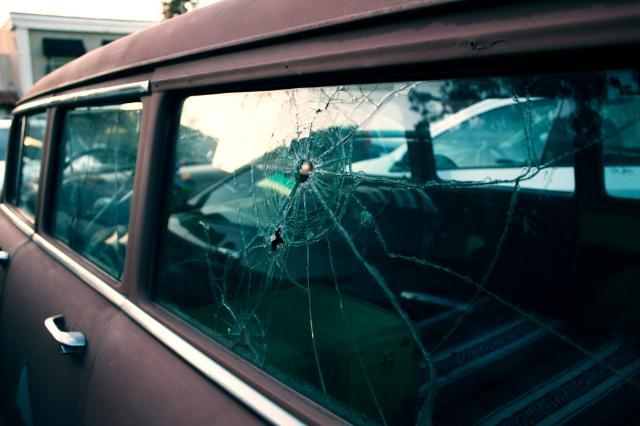glass shatter: (151, 65, 640, 426)
